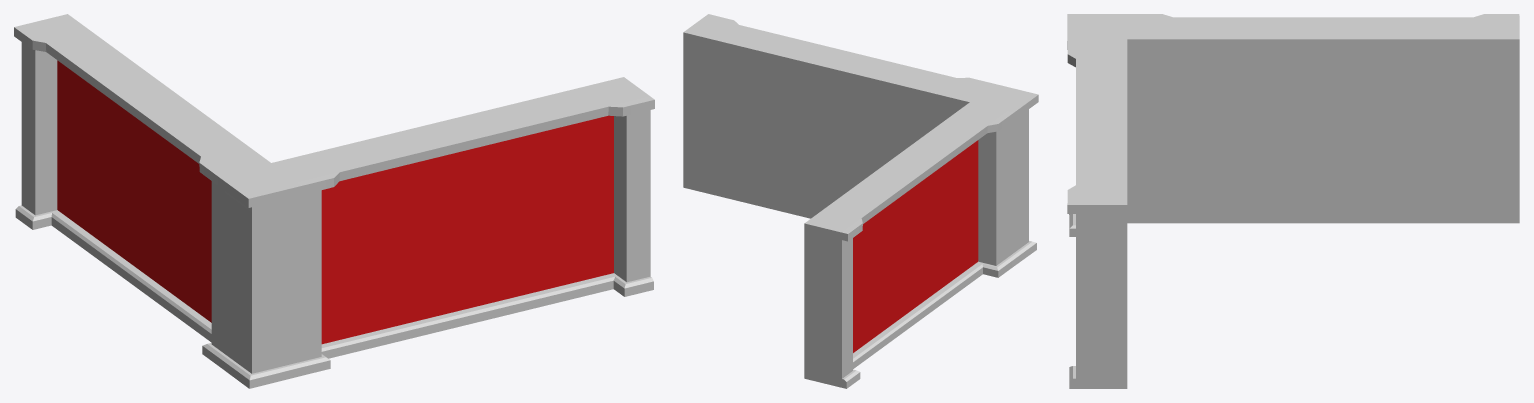
File: Wall Flat Top corner out.fbx
3 renders of one model, left to right at view 1: azimuth 30°, elevation 25°; view 2: azimuth 150°, elevation 25°; view 3: azimuth 270°, elevation 25°, orthographic. The views are drawn at different scales.
Visible parts, largest first — view 1: Wall flat top corner; view 2: Wall flat top corner; view 3: Wall flat top corner.
Boxes of the visible parts, bbox=[...] form: Wall flat top corner: bbox=[14, 14, 654, 388]; Wall flat top corner: bbox=[683, 14, 1038, 388]; Wall flat top corner: bbox=[1067, 14, 1519, 388].
Bounding box in the file's own units: 636 × 286 × 636.
